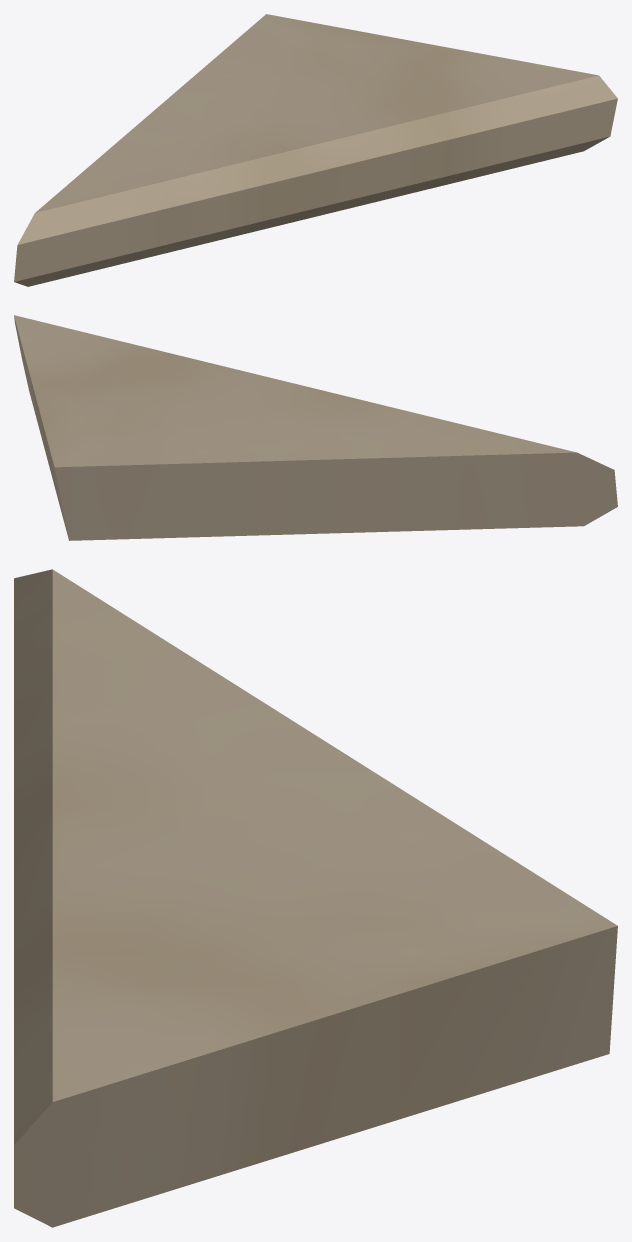
The model's file is Mesh_Tile_04.fbx.
3 views of the same model, one above another, from view 1: azimuth 30°, elevation 25°; view 2: azimuth 150°, elevation 25°; view 3: azimuth 270°, elevation 25° (orthographic). The views are drawn at different scales.
Parts seen in each view (by area): view 1: Tile_04; view 2: Tile_04; view 3: Tile_04.
Boxes of the visible parts, left/top/right/bottom form: Tile_04: left=14, top=14, right=617, bottom=286; Tile_04: left=14, top=315, right=617, bottom=540; Tile_04: left=14, top=569, right=617, bottom=1227.
Size of the model in its own units: 16.77 by 1.92 by 7.5.
Materials: 1 (1 with a texture image).
